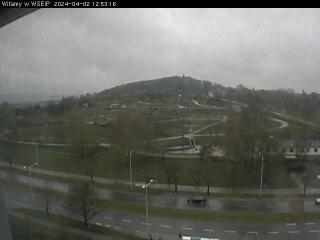car: (187, 194, 207, 205)
